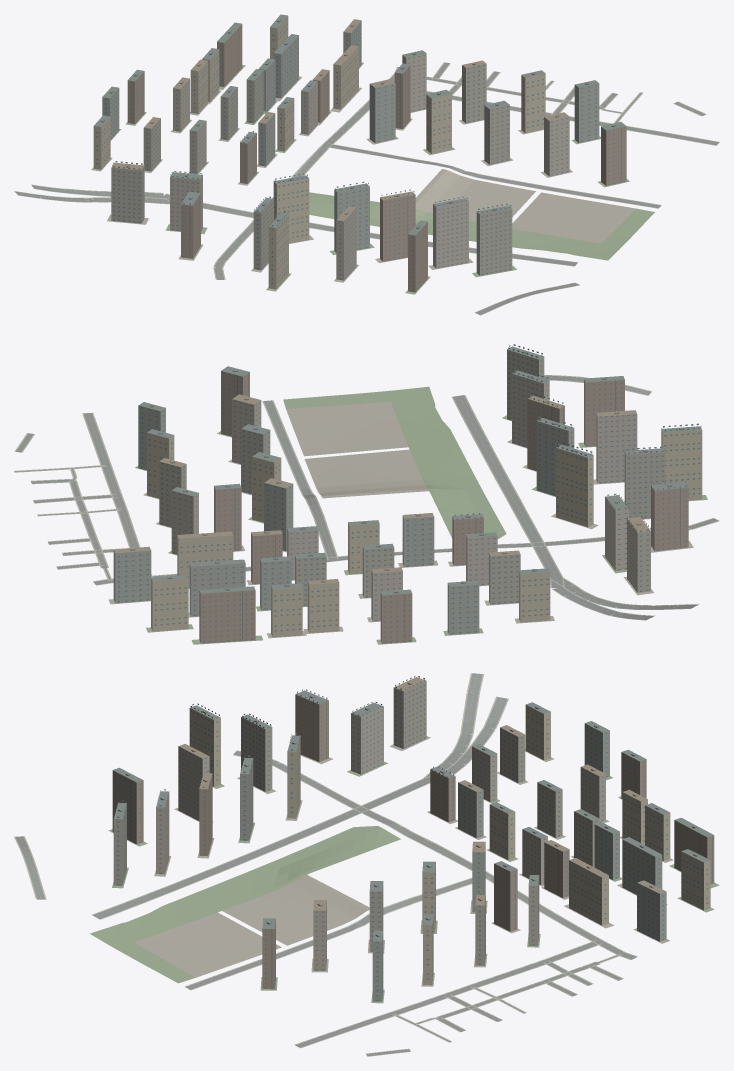
The picture shows the model from 3 angles, top to bottom: view 1: azimuth 30°, elevation 25°; view 2: azimuth 150°, elevation 25°; view 3: azimuth 270°, elevation 25°; orthographic projection. The views are drawn at different scales.
Visible parts, largest first — view 1: context-osm-buildings, context-building-plinths, context-osm-roads, context-osm-sidewalks; view 2: context-osm-buildings, context-building-plinths, context-osm-roads, context-osm-sidewalks; view 3: context-osm-buildings, context-building-plinths, context-osm-roads, context-osm-sidewalks.
Boxes of the visible parts, x1,y1,x2,y2 form: context-osm-buildings: [93, 14, 626, 292]; context-building-plinths: [91, 62, 654, 294]; context-osm-roads: [14, 62, 719, 314]; context-osm-sidewalks: [14, 62, 719, 315]; context-osm-buildings: [113, 344, 702, 643]; context-building-plinths: [109, 386, 707, 644]; context-osm-roads: [14, 375, 718, 619]; context-osm-sidewalks: [14, 375, 719, 620]; context-osm-buildings: [112, 676, 714, 1001]; context-building-plinths: [90, 736, 719, 1003]; context-osm-roads: [15, 673, 636, 1056]; context-osm-sidewalks: [14, 673, 637, 1056].
Size of the model in its own units: 895 by 99.29 by 786.
